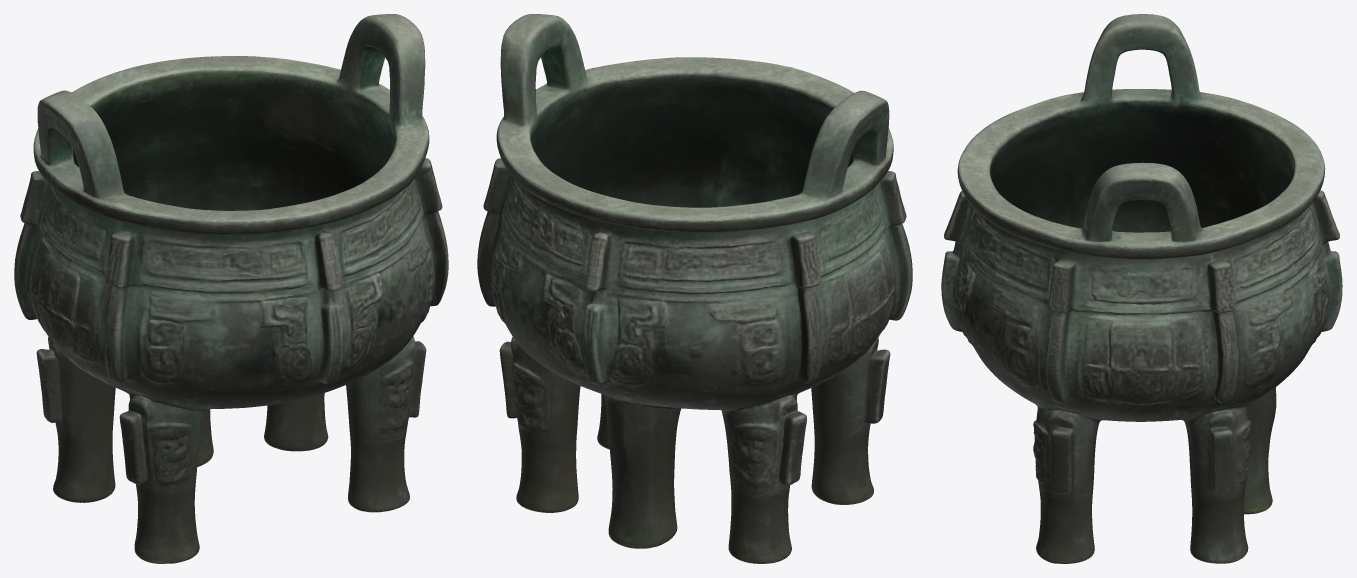
The model's file is tex_mesh.glb.
The picture shows the model from 3 angles, left to right: view 1: azimuth 30°, elevation 25°; view 2: azimuth 150°, elevation 25°; view 3: azimuth 270°, elevation 25°; orthographic projection. The views are drawn at different scales.
Parts seen in each view (by area): view 1: world; view 2: world; view 3: world.
Boxes of the visible parts, x1,y1,x2,y2 form: world: [14, 14, 448, 563]; world: [477, 14, 912, 563]; world: [941, 14, 1342, 563].
Size of the model in its own units: 0.2689 by 0.31 by 0.2738.
1 material, 1 textured.
